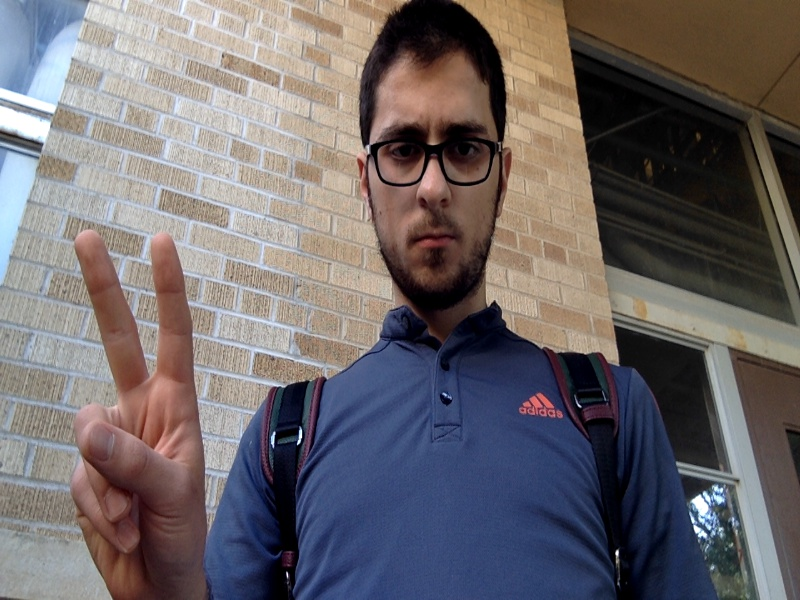2-hand: (72, 228, 203, 600)
